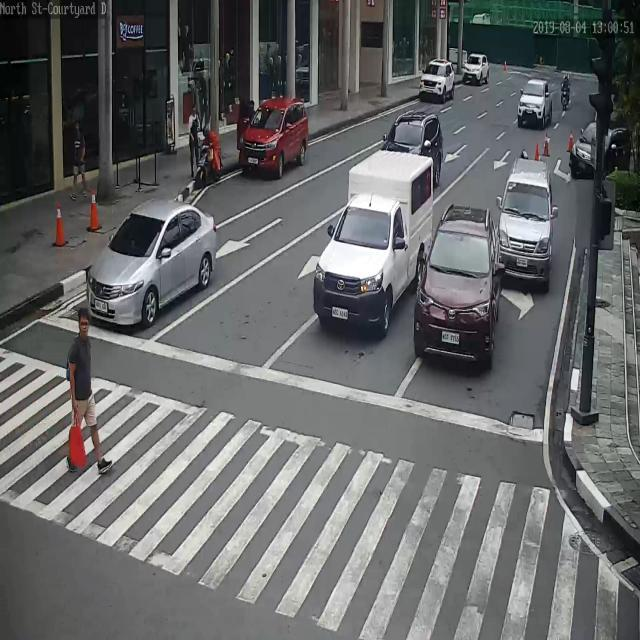car: (85, 202, 220, 328), (415, 207, 501, 370), (494, 165, 556, 285), (240, 97, 312, 178), (382, 112, 444, 181), (571, 122, 636, 181), (519, 79, 557, 130), (418, 58, 456, 102), (462, 53, 490, 84)
jeepney: (194, 125, 224, 190), (560, 72, 574, 114)
van: (312, 146, 430, 330)
